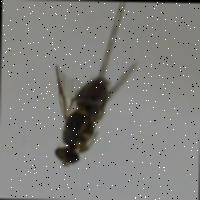Oriental-fruit-fly: (41, 55, 139, 166)
